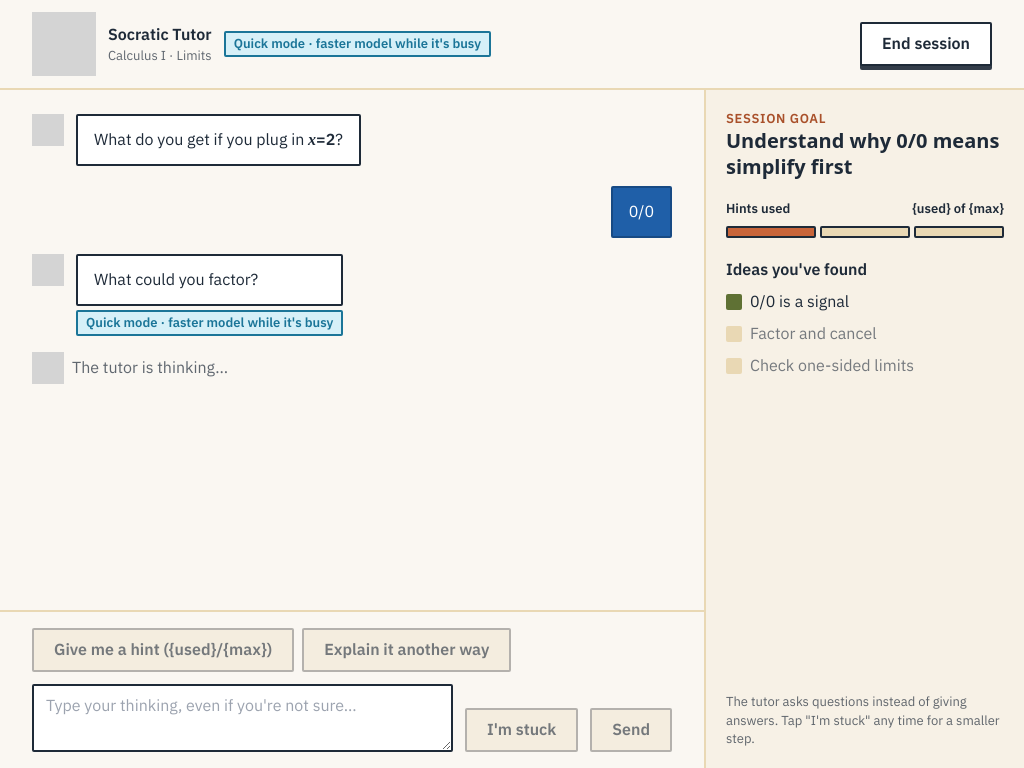
Test: Socratic Tutor › ends while AI is paused: saved without a summary
Expected: the button "Send" is disabled, [590, 708, 672, 752]
What coordinates should you click on to do the following:
click the button "End session"
I would click on:
 (926, 44)
Its box is [860, 22, 992, 66].
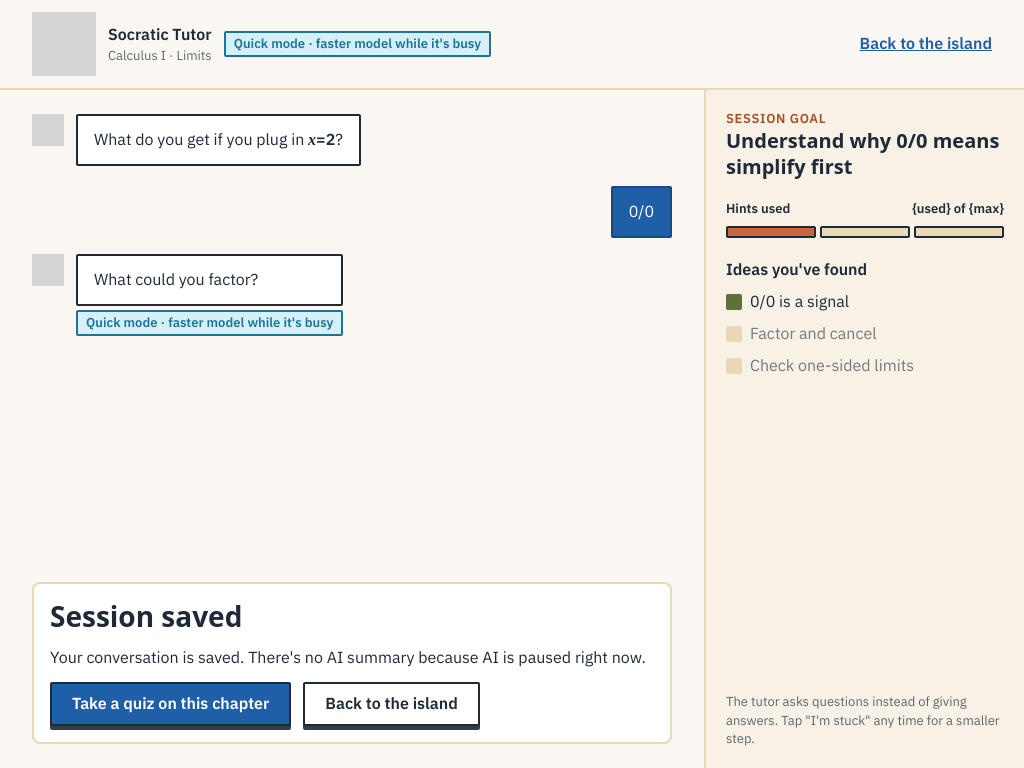
Result: the heading "Session saved" is shown at [50, 597, 242, 635]
Result: the text "AI is paused right now" is shown at [50, 646, 646, 670]
